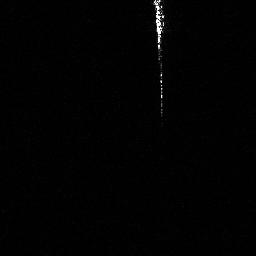ship: (150, 1, 168, 60)
